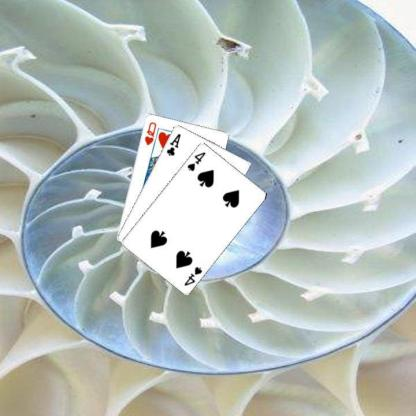4S: (185, 149, 207, 172), (182, 264, 204, 287)
AC: (164, 130, 182, 156)
QH: (142, 119, 157, 146)
